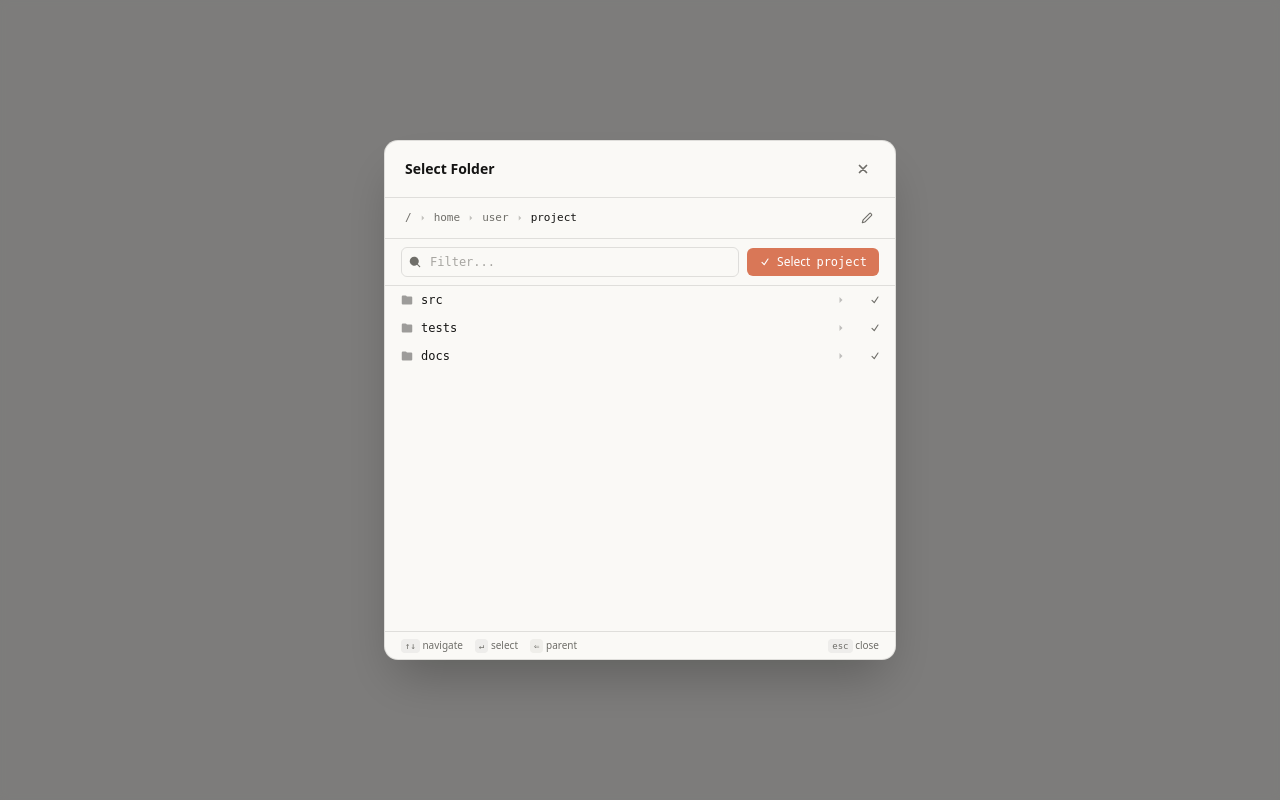
Test: FolderPicker › filters directories by name when typing in filter input
Expected: the text "src" is shown, [421,292,443,308]
Type "sr" into the field named "Filter directories".
click(570, 262); type("sr")  # box [401,247,739,277]
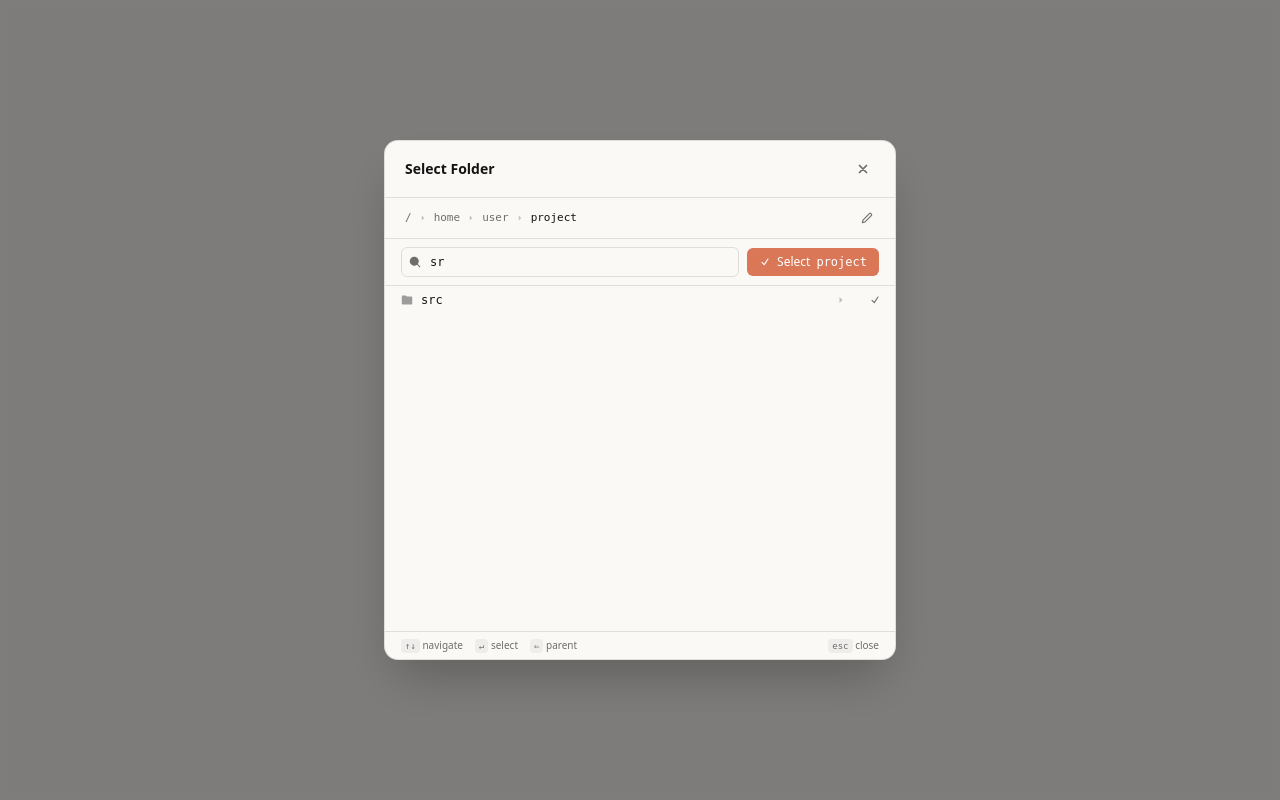
Expected: the text "src" is shown, [421,292,443,308]
Now the button "tests" is gone
Now the button "docs" is gone
